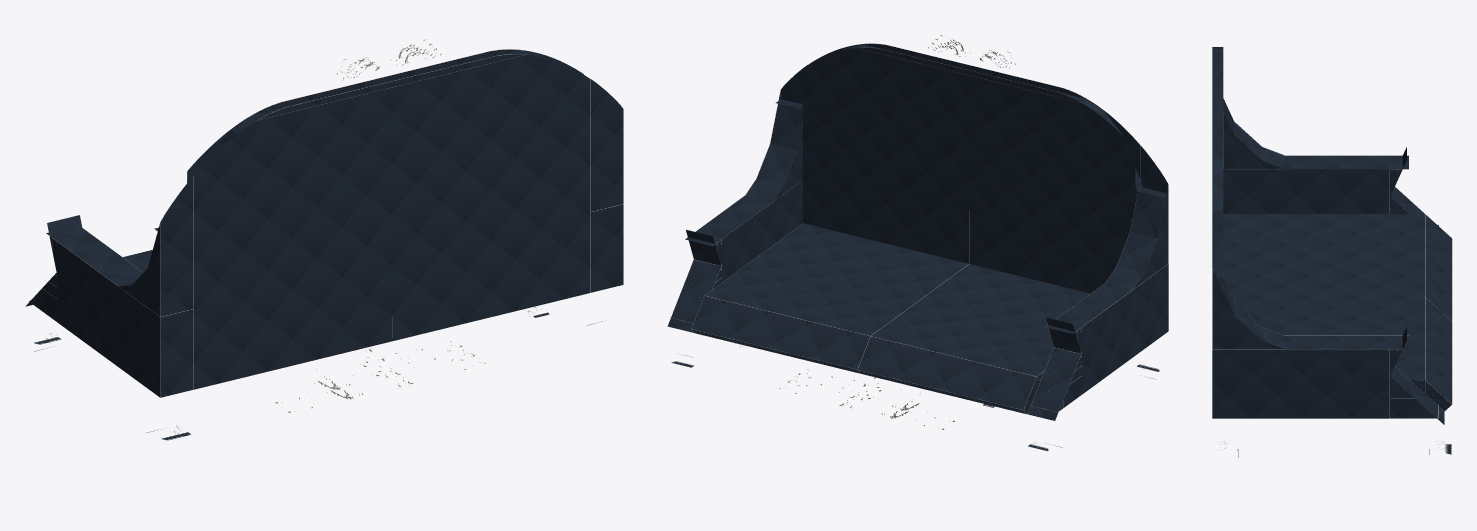
File: black_couch.obj
The picture shows the model from 3 angles, left to right: view 1: azimuth 30°, elevation 25°; view 2: azimuth 150°, elevation 25°; view 3: azimuth 270°, elevation 25°; orthographic projection. The views are drawn at different scales.
Parts seen in each view (by area): view 1: cube.110, cube.041, cube.093, cube.129, cube.032, cube.057, cube.023, cube.042, cube.112, cube.095, cube.111, cube.043; view 2: cube.041, cube.110, cube.044, cube.113, cube.117, cube.048, cube.093, cube.023, cube.032, cube.116, cube.046, cube.095 (+12 smaller); view 3: cube.113, cube.023, cube.044, cube.093, cube.048, cube.117, cube.025, cube.095, cube.057, cube.017, cube.046, cube.040 (+12 smaller).
Boxes of the visible parts, x1,y1,x2,y2 form: cube.110: (195,89,383,387); cube.041: (400,50,582,339); cube.093: (57,241,193,397); cube.129: (154,212,193,316); cube.032: (251,39,526,119); cube.057: (590,107,623,211); cube.023: (590,204,623,292); cube.042: (392,85,400,341); cube.112: (383,87,391,343); cube.095: (46,228,143,286); cube.111: (187,162,201,389); cube.043: (576,69,590,294); cube.041: (810,44,962,261); cube.110: (976,77,1133,293); cube.044: (705,223,968,341); cube.113: (871,264,1090,381); cube.117: (857,336,1040,414); cube.048: (691,296,870,373); cube.093: (1056,264,1168,394); cube.023: (694,180,802,301); cube.032: (857,35,1086,102); cube.116: (1027,347,1081,420); cube.046: (667,259,721,333); cube.095: (1045,283,1132,333); cube.113: (1223,214,1425,296); cube.023: (1212,349,1389,418); cube.044: (1232,297,1425,393); cube.093: (1223,169,1389,213); cube.048: (1425,297,1452,411); cube.117: (1425,214,1452,320); cube.025: (1284,335,1408,349); cube.095: (1284,155,1408,169); cube.057: (1212,268,1223,349); cube.017: (1389,398,1427,418); cube.046: (1390,367,1444,424); cube.040: (1212,209,1223,264).
Bounding box in the file's own units: 1.31 × 1.09 × 0.7461.
